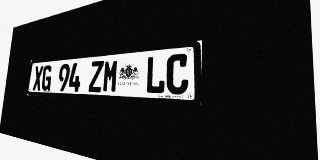4: (68, 62, 82, 92)
9: (57, 63, 70, 91)
C: (166, 53, 189, 95)
G: (41, 65, 53, 91)
L: (145, 55, 166, 94)
M: (102, 59, 119, 93)
X: (32, 66, 43, 91)
Z: (88, 60, 104, 92)
